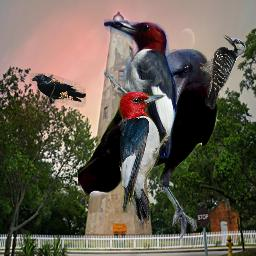Crow: (78, 49, 218, 240), (29, 73, 86, 111)
Woodpecker: (104, 19, 178, 204), (116, 92, 174, 233), (200, 35, 246, 110)
